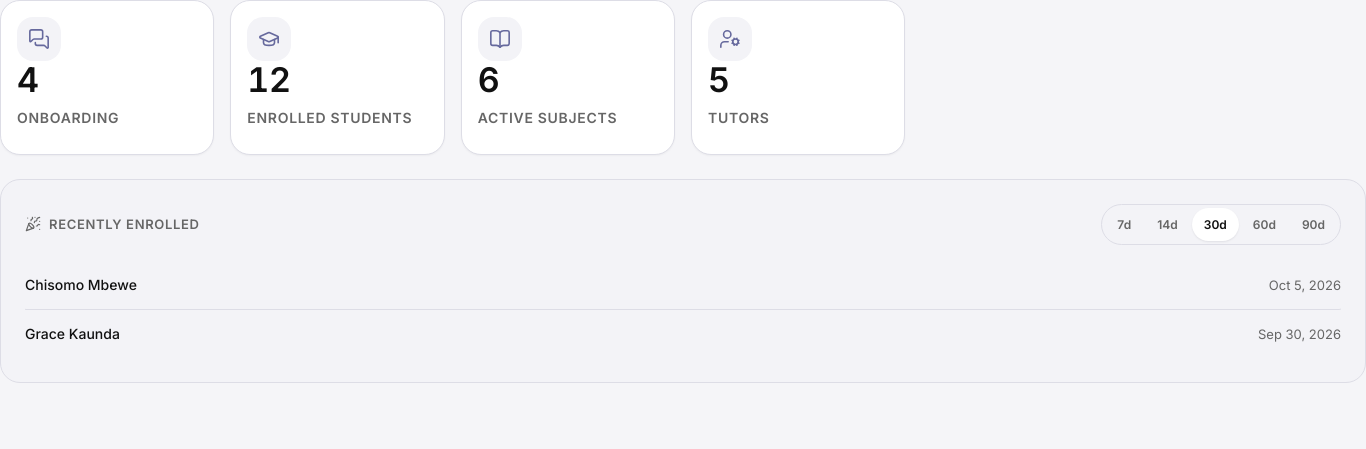
it: DashboardPage › lets staff switch the period, filtering instantly with no refetch
Expected: the link "Chisomo Mbewe Oct 5, 2026" is shown, x1=25 y1=261 x2=1341 y2=310
Click the button "7d": (1124, 224) x1=1105 y1=208 x2=1143 y2=241
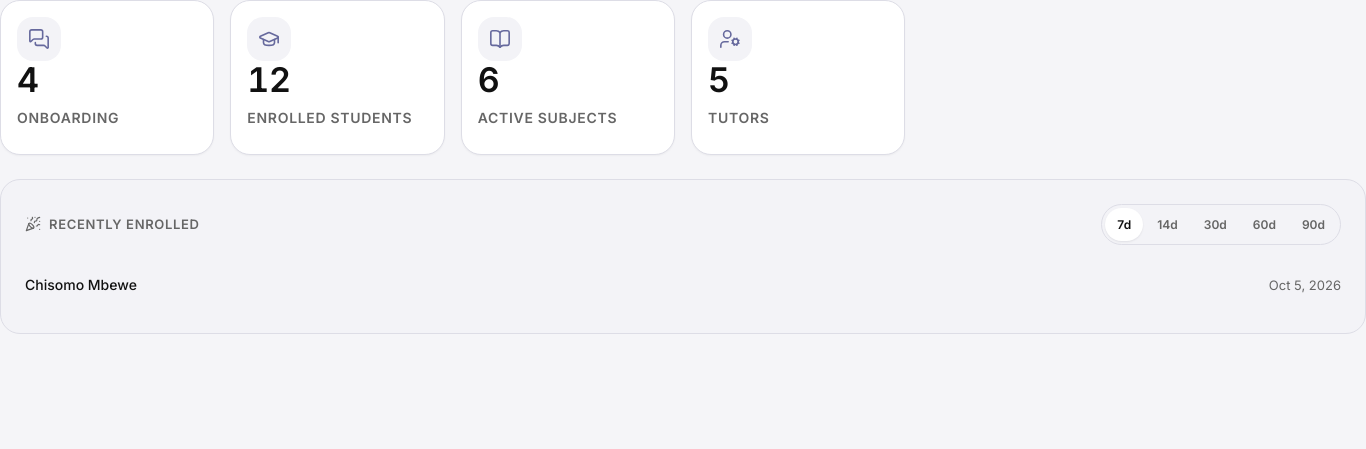
Expected: the link "Chisomo Mbewe Oct 5, 2026" is shown, x1=25 y1=276 x2=1341 y2=293
Result: the link "Grace Kaunda" is gone
Click the button "60d": (1264, 224) x1=1241 y1=208 x2=1288 y2=241
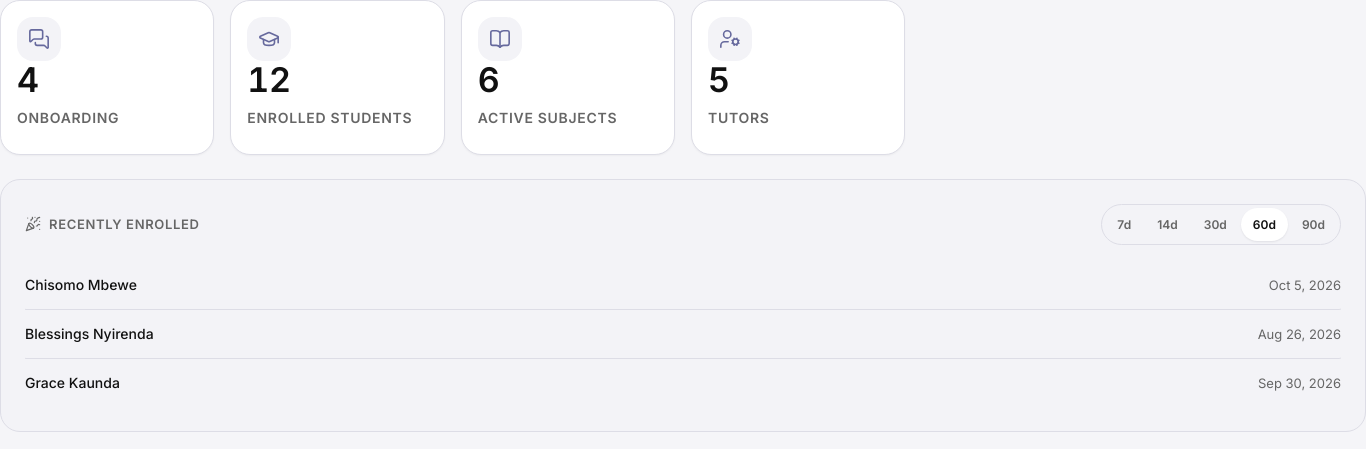
Result: the link "Blessings Nyirenda Aug 26, 2026" is shown at x1=25 y1=310 x2=1341 y2=359
